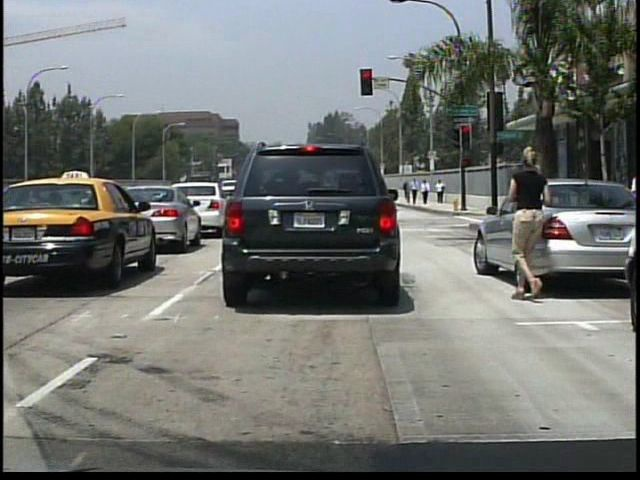person: (506, 134, 558, 307), (410, 177, 421, 204), (435, 177, 446, 204), (421, 178, 430, 205), (404, 179, 412, 201)
